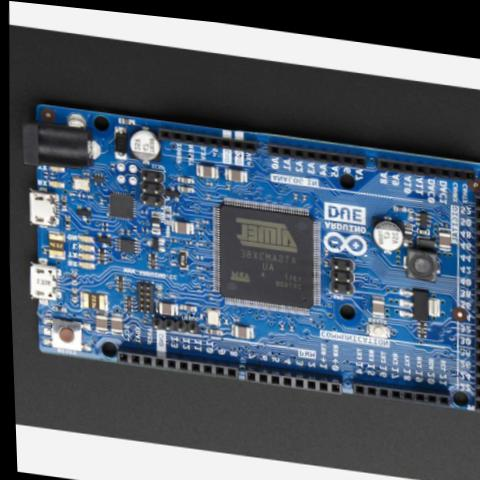Arduino-Due: (4, 85, 480, 413)
